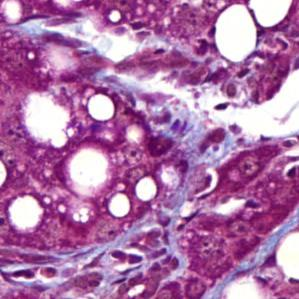steatosis: (212, 5, 256, 62), (6, 194, 47, 233), (88, 92, 116, 122), (106, 193, 130, 218), (136, 174, 159, 200)
